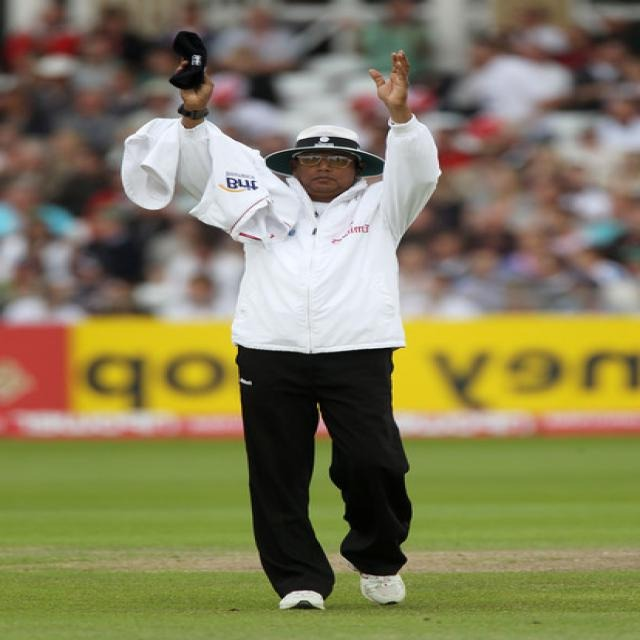Six: (113, 13, 467, 606)
